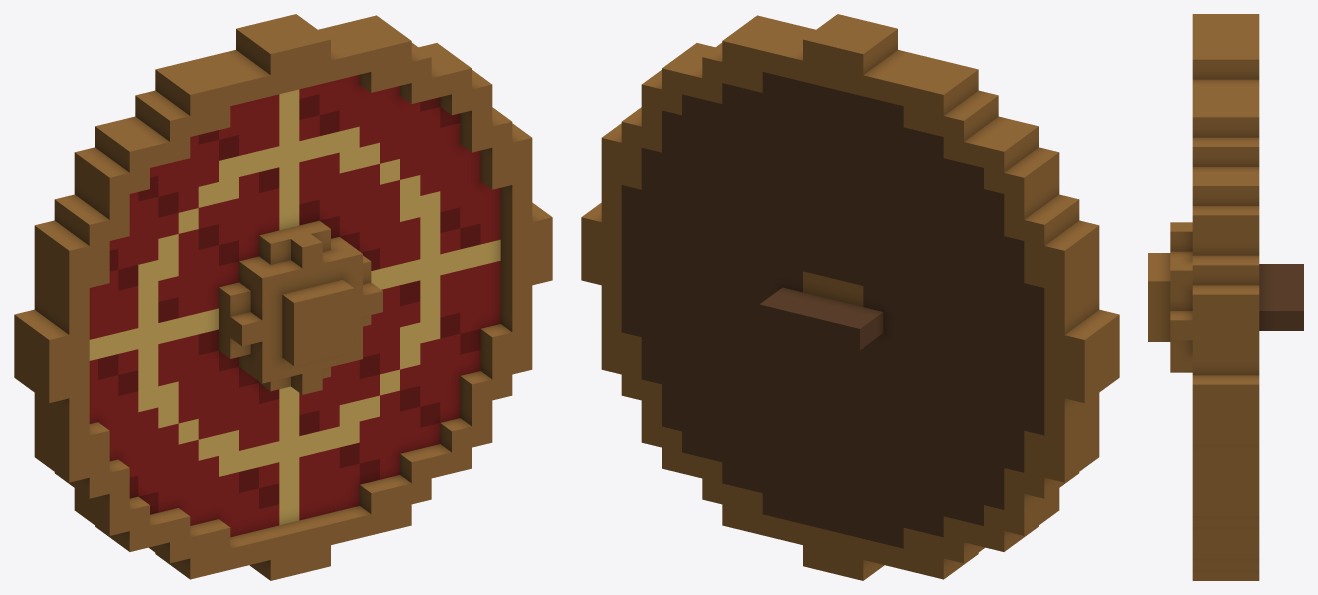
Rendered from gladius_shield.glb.
3 views of the same model, side by side, from view 1: azimuth 30°, elevation 25°; view 2: azimuth 150°, elevation 25°; view 3: azimuth 270°, elevation 25° (orthographic). The views are drawn at different scales.
Visible parts, largest first — view 1: gladius_shield_body; view 2: gladius_shield_body; view 3: gladius_shield_body.
Boxes of the visible parts, bbox=[...] form: gladius_shield_body: bbox=[14, 14, 552, 580]; gladius_shield_body: bbox=[581, 14, 1119, 580]; gladius_shield_body: bbox=[1148, 14, 1303, 580].
Bounding box in the file's own units: 0.9766 × 0.9766 × 0.2734.
1 material, 1 textured.
